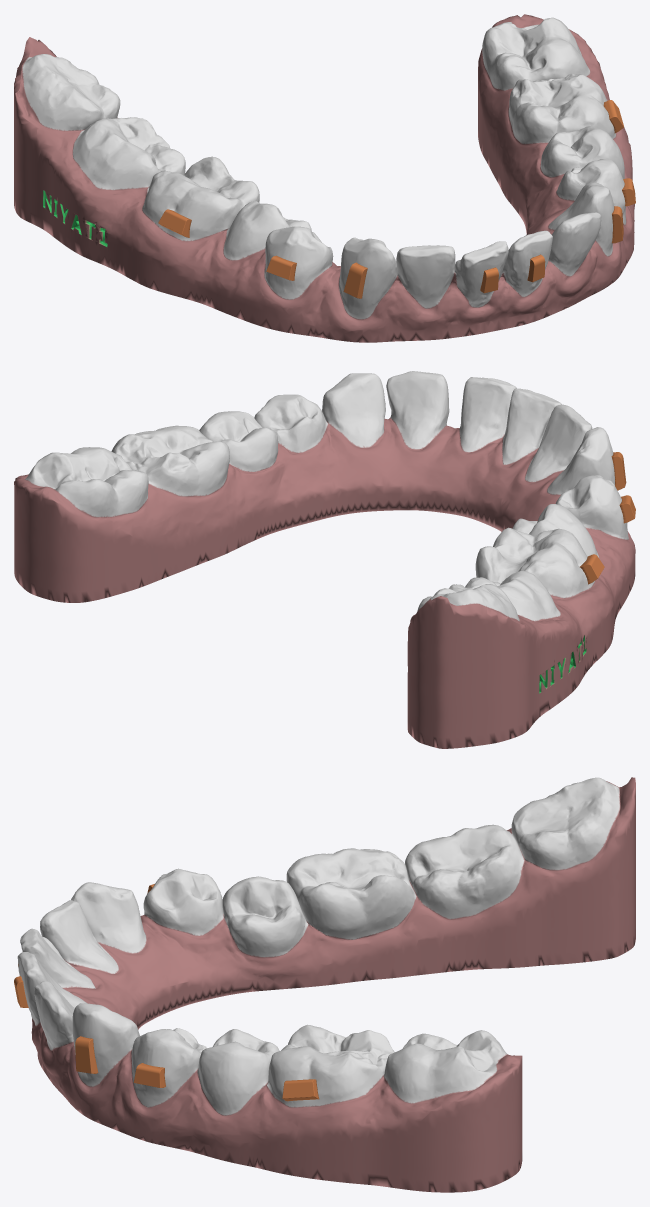
File: Niya Priority Lower jaw - 01 - Template.glb
3 views of the same model, one above another, from view 1: azimuth 30°, elevation 25°; view 2: azimuth 150°, elevation 25°; view 3: azimuth 270°, elevation 25° (orthographic). The views are drawn at different scales.
Parts seen in each view (by area): view 1: Niya Priority Lower jaw - 01 - Template; view 2: Niya Priority Lower jaw - 01 - Template; view 3: Niya Priority Lower jaw - 01 - Template.
Boxes of the visible parts, x1,y1,x2,y2 form: Niya Priority Lower jaw - 01 - Template: (14, 14, 635, 342); Niya Priority Lower jaw - 01 - Template: (14, 371, 635, 748); Niya Priority Lower jaw - 01 - Template: (14, 777, 635, 1192).
Bounding box in the file's own units: 62.72 × 16.53 × 58.78.
